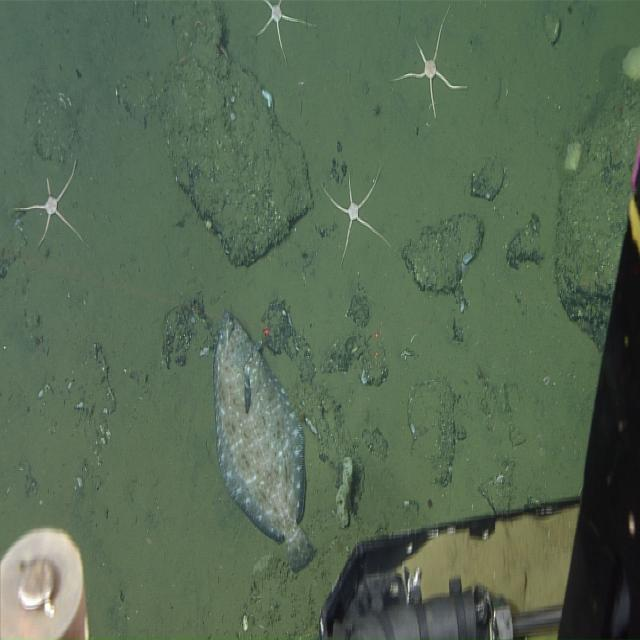Brittle Star: (8, 154, 96, 264), (390, 4, 470, 119), (318, 160, 397, 262), (254, 1, 316, 72)
Not Brittle Star: (212, 308, 316, 576)
